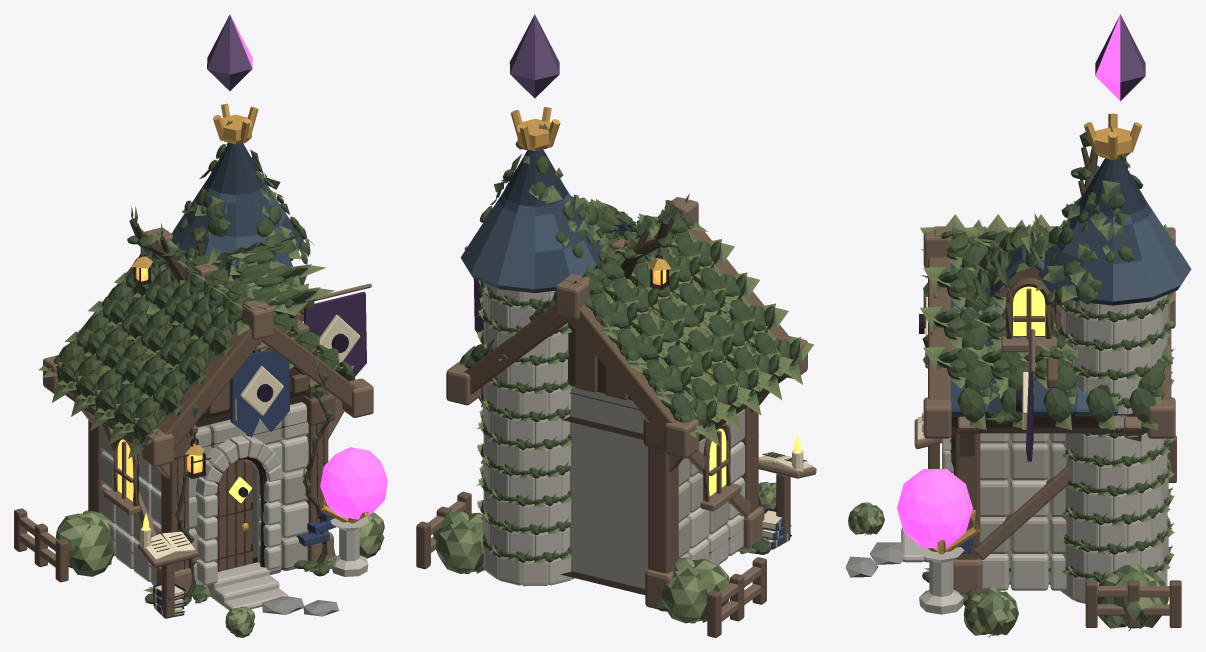
Rendered from magic_academy.glb.
3 views of the same model, side by side, from view 1: azimuth 30°, elevation 25°; view 2: azimuth 150°, elevation 25°; view 3: azimuth 270°, elevation 25° (orthographic). The views are drawn at different scales.
Visible parts, largest first — view 1: Academy glowing orb, Carved roof verge, Cloth heraldic banner, Cloth heraldic banner.001, Carved roof verge.002, Academy purple crystal, Turret cone backing, Broad stepped turret roof.001, Corner upright, Leaf cluster.004, Broad stepped turret roof, Orb stone pedestal (+37 smaller); view 2: Cottage walls, Broad stepped turret roof, Corner upright.001, Broad stepped turret roof.001, Carved roof verge.001, Carved roof verge.003, Academy purple crystal, Leaf cluster.007, Leaf cluster.011, Turret cone backing, Corner upright, Gable vertical board.007 (+33 smaller); view 3: Broad stepped turret roof, Academy glowing orb, Broad stepped turret roof.001, Academy purple crystal, Orb stone pedestal, Turret cone backing, Roof eave.001, Side wall diagonal.001, Carved roof verge.002, Corner upright.002, Side limestone block.003, Side limestone block.027 (+54 smaller).
Boxes of the visible parts, x1,y1,x2,y2 form: Academy glowing orb: (320, 447, 387, 519); Carved roof verge: (157, 328, 262, 449); Cloth heraldic banner: (230, 349, 289, 437); Cloth heraldic banner.001: (304, 291, 366, 376); Carved roof verge.002: (262, 325, 357, 408); Academy purple crystal: (207, 14, 252, 90); Turret cone backing: (206, 143, 265, 194); Broad stepped turret roof.001: (184, 185, 286, 236); Corner upright: (161, 456, 188, 571); Leaf cluster.004: (70, 525, 115, 576); Broad stepped turret roof: (171, 213, 304, 260); Orb stone pedestal: (330, 516, 368, 576); Cottage walls: (569, 386, 648, 588); Broad stepped turret roof: (460, 229, 600, 292); Corner upright.001: (648, 447, 678, 573); Broad stepped turret roof.001: (479, 195, 589, 252); Carved roof verge.001: (567, 305, 676, 440); Carved roof verge.003: (464, 303, 568, 394); Academy purple crystal: (509, 14, 559, 98); Leaf cluster.007: (660, 567, 707, 623); Leaf cluster.011: (436, 521, 483, 573); Turret cone backing: (503, 149, 568, 206); Corner upright: (741, 406, 758, 514); Gable vertical board.007: (574, 329, 597, 392); Broad stepped turret roof: (1038, 238, 1191, 305); Academy glowing orb: (897, 469, 972, 548); Broad stepped turret roof.001: (1057, 210, 1171, 263); Academy purple crystal: (1095, 14, 1145, 100); Orb stone pedestal: (918, 547, 964, 614); Turret cone backing: (1079, 158, 1147, 216); Roof eave.001: (951, 414, 1147, 433); Side wall diagonal.001: (974, 466, 1069, 559); Carved roof verge.002: (928, 257, 951, 400); Corner upright.002: (955, 433, 980, 559); Side limestone block.003: (1010, 553, 1048, 590); Side limestone block.027: (1010, 443, 1048, 480).
Size of the model in its own units: 4.1 by 6.91 by 3.71.
Materials: 41 (9 with a texture image).
